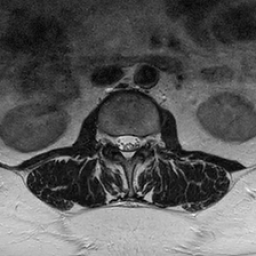CCS_normal: (124, 126, 131, 166)
LFS_normal: (141, 129, 148, 153)
LLS_normal: (131, 129, 140, 155)
RFS_normal: (106, 126, 115, 150)
RLS_normal: (115, 128, 124, 156)
